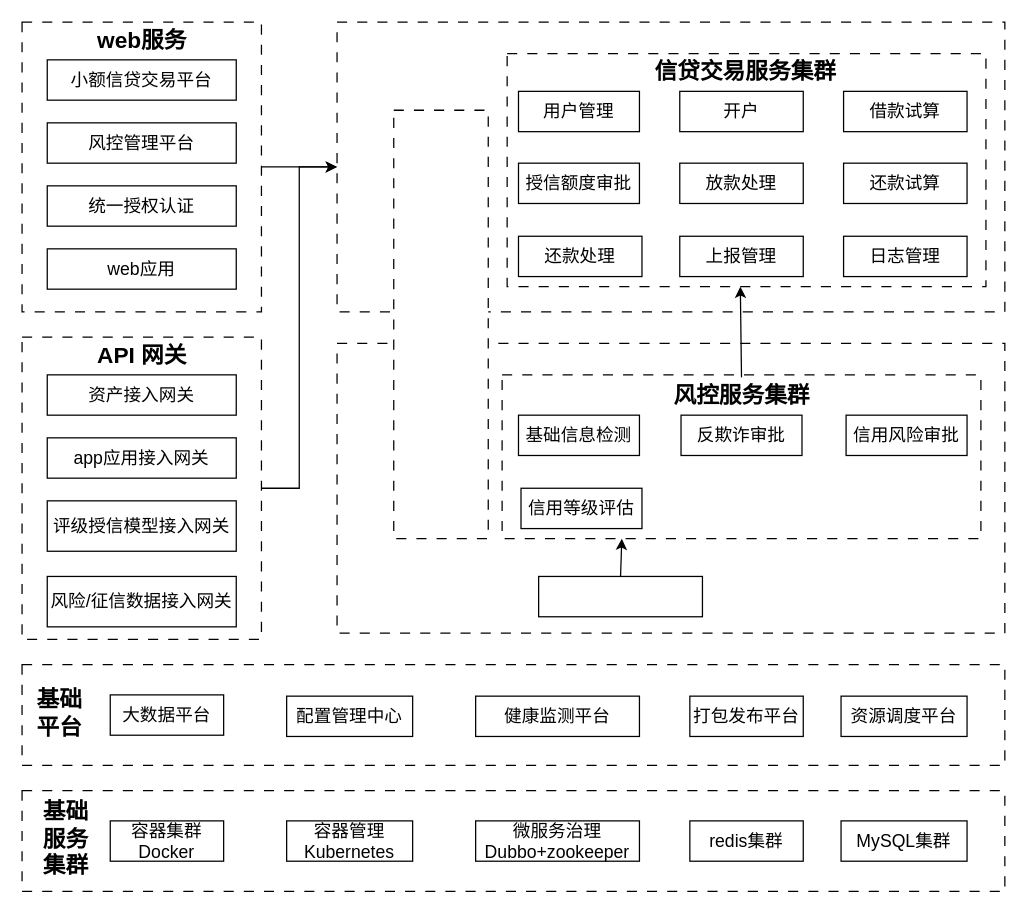
The diagram is 1027 pixels wide and 914 high, and some of its shapes have lost their labels. The centre of each missing label's shape, as x and y in pixels:
"统一认证授权" goes at (x=440, y=324).
"评级授信模型" goes at (x=619, y=596).
